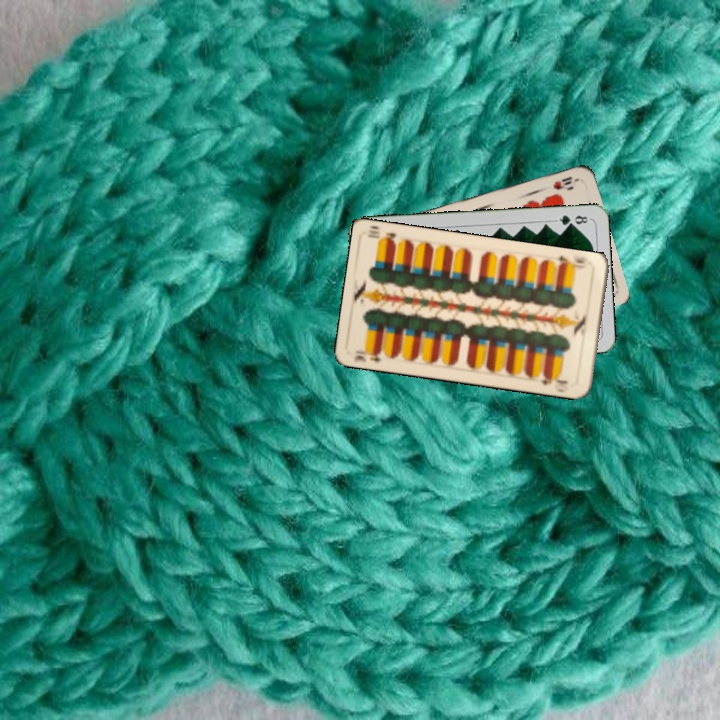E10: (553, 251, 594, 272), (350, 344, 383, 364)
G8: (552, 211, 592, 229)
H10: (549, 172, 575, 193)
